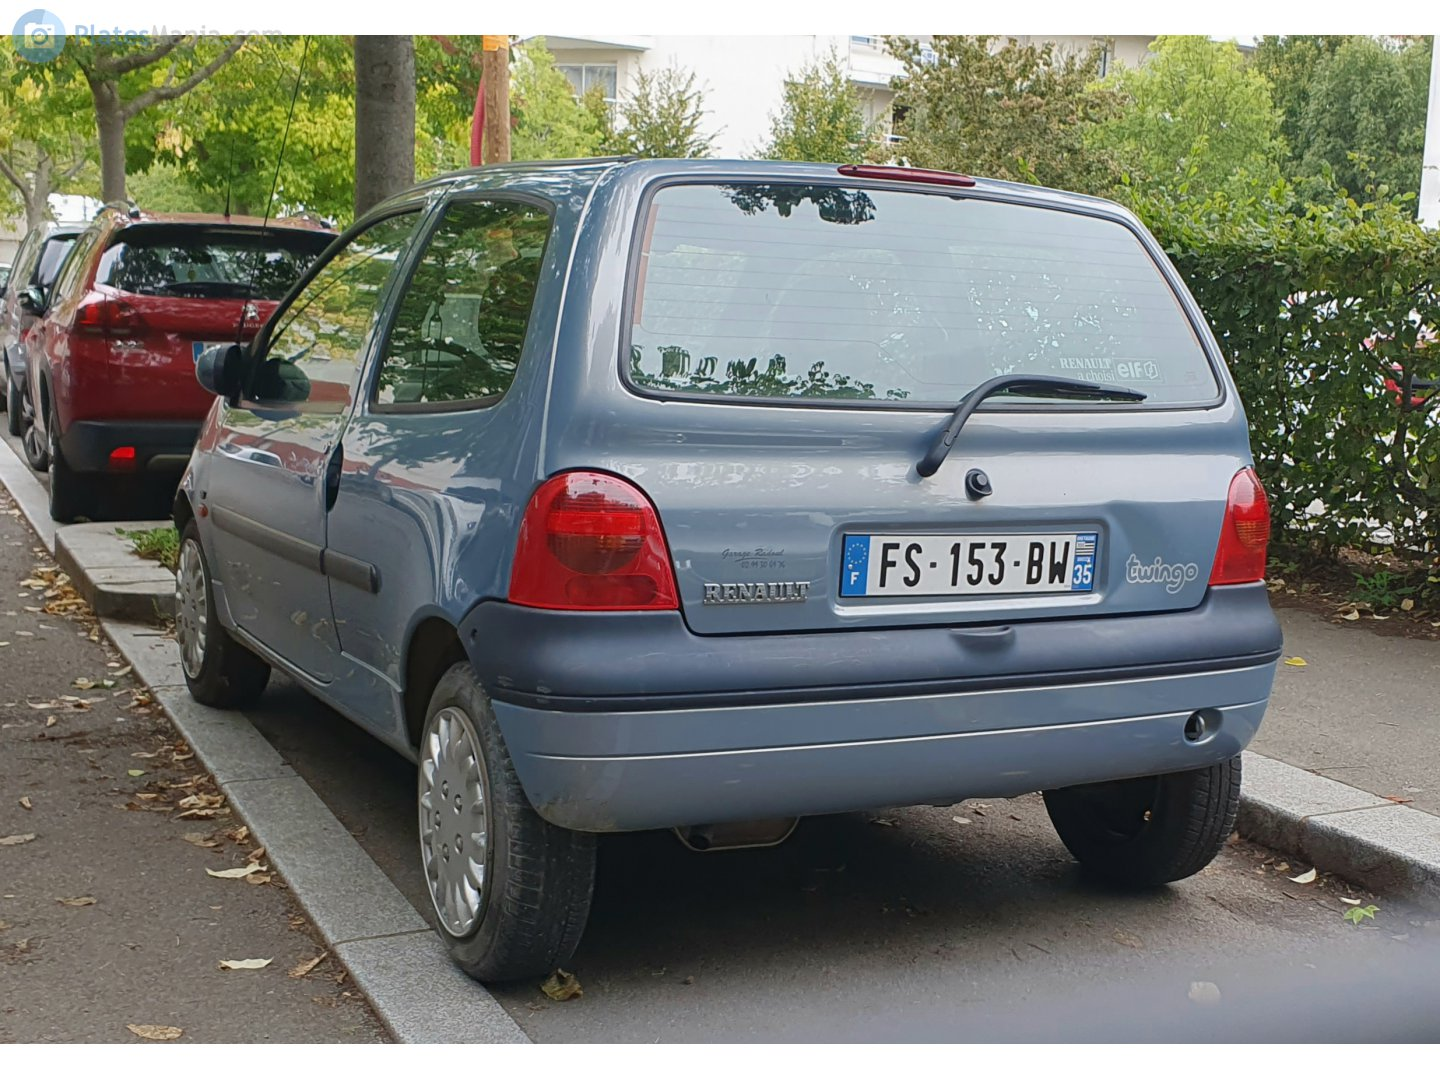licence plate: (835, 528, 1102, 605)
